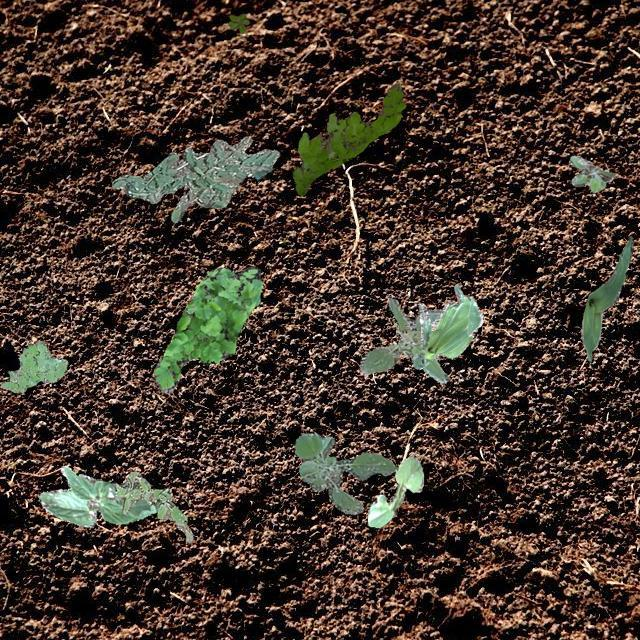crop: (36, 464, 158, 526), (580, 236, 632, 360), (410, 284, 482, 368), (367, 454, 422, 526)
weed: (110, 136, 278, 222), (152, 264, 262, 392), (292, 84, 404, 194), (294, 432, 396, 514), (358, 298, 446, 382), (114, 471, 192, 542), (0, 339, 67, 392), (568, 154, 614, 192), (228, 12, 248, 32)
